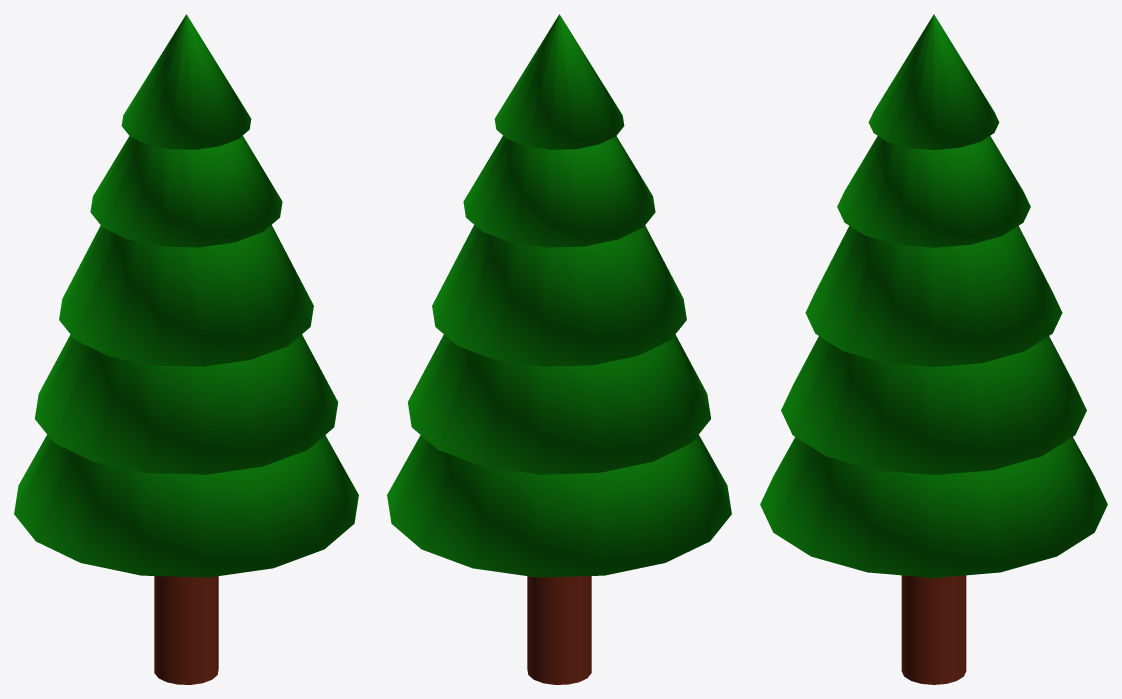
Rendered from treefir.obj.
3 views of the same model, side by side, from view 1: azimuth 30°, elevation 25°; view 2: azimuth 150°, elevation 25°; view 3: azimuth 270°, elevation 25° (orthographic).
Parts seen in each view (by area): view 1: Cylinder.001_Cylinder.006; view 2: Cylinder.001_Cylinder.006; view 3: Cylinder.001_Cylinder.006.
Part boxes in pixels (x1,y1,x2,y2): Cylinder.001_Cylinder.006: (14,14,358,684); Cylinder.001_Cylinder.006: (387,14,731,684); Cylinder.001_Cylinder.006: (760,14,1107,684).
Size of the model in its own units: 0.8778 by 1.83 by 0.8778.
